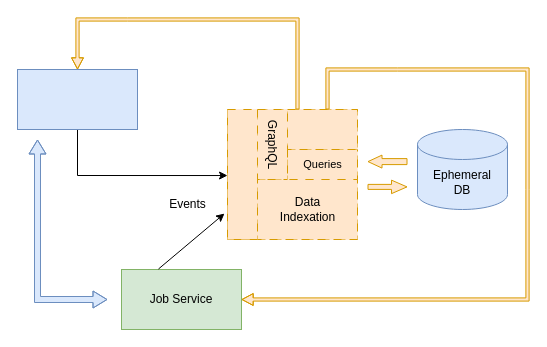
Some shapes in this 547 by 347 pixel diagram are drawn without their labels. The shapes that lost their labels are listed below. From the top down, each one's box as (x1, y1, x2, y2) in pixels, then its label:
(16, 68, 138, 130): Workflow Dev Mode
(286, 108, 358, 150): Gateway API
(226, 108, 258, 240): Data Index
